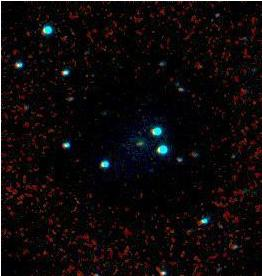star: (185, 51, 215, 81)
